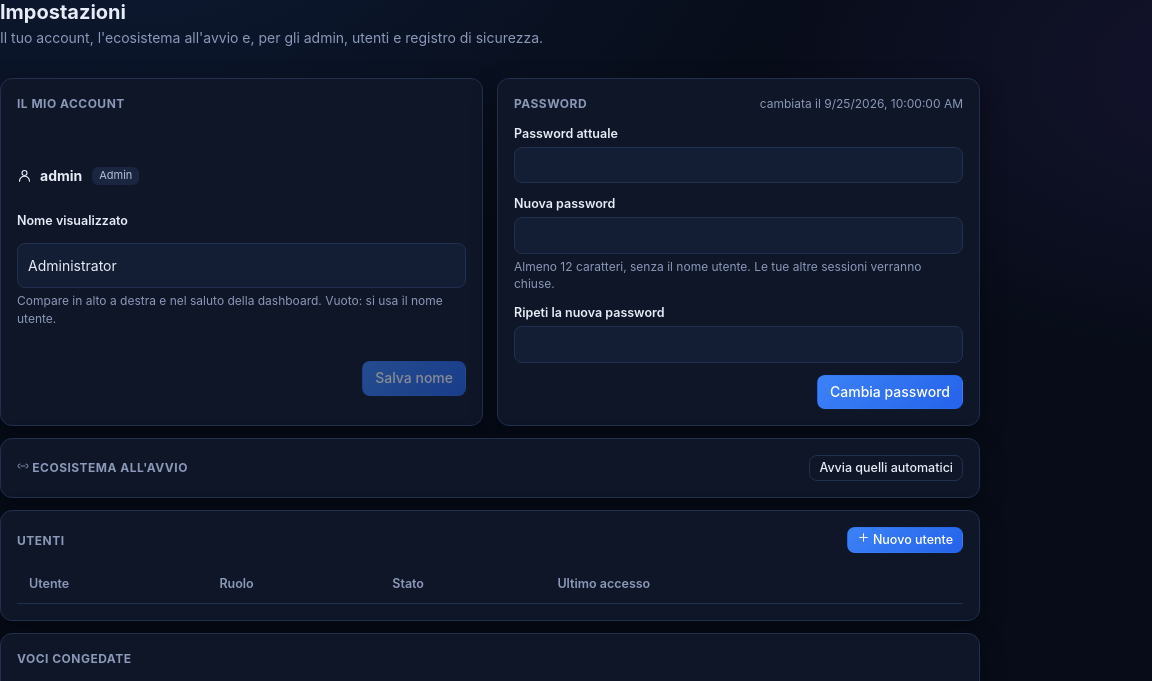
Test: my account (ADR-024) › says why the button cannot be pressed yet instead of doing nothing
Type "the-old-secret-1" into the password field labelled "Password attuale" at (738, 165), box [514,147,963,183]
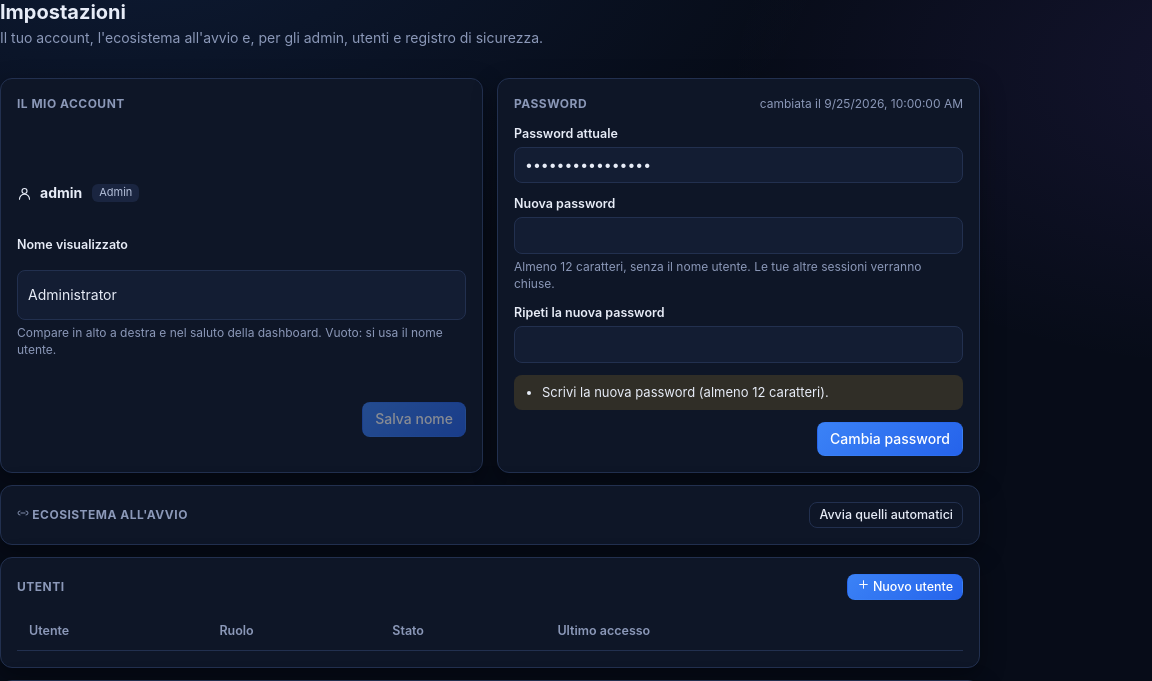
Type "short" into the password field labelled "Nuova password" at (738, 235), box [514,217,963,254]
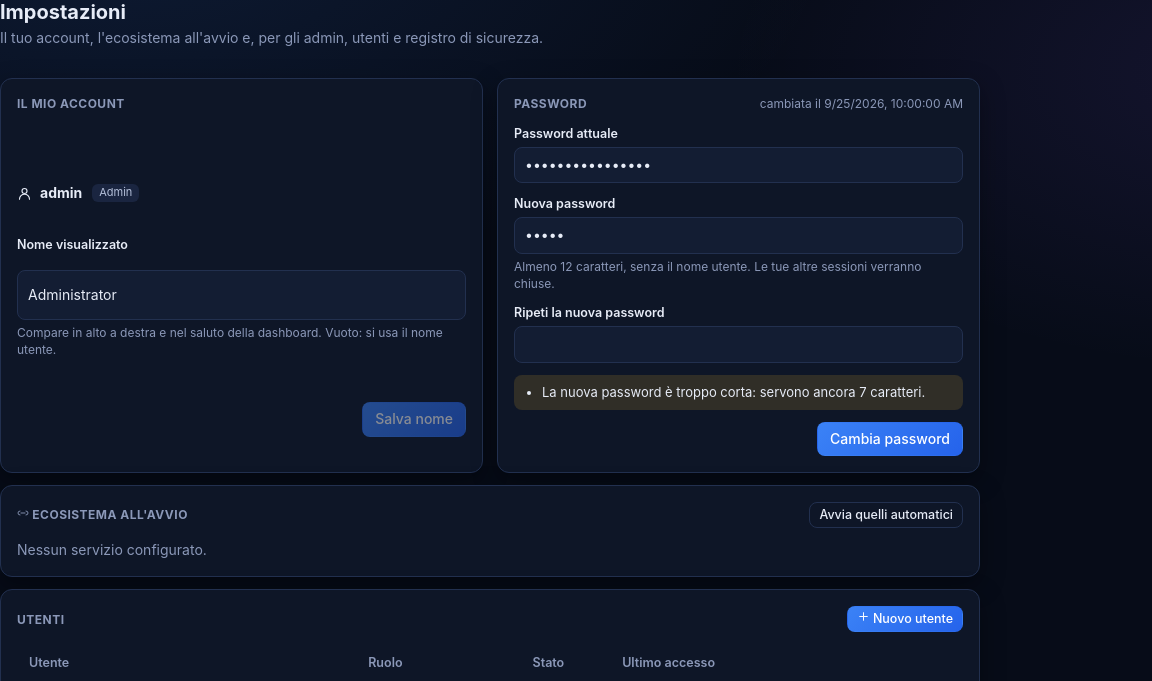
Expected: the list item "ancora 7 caratteri" is shown, [542,384,925,400]
